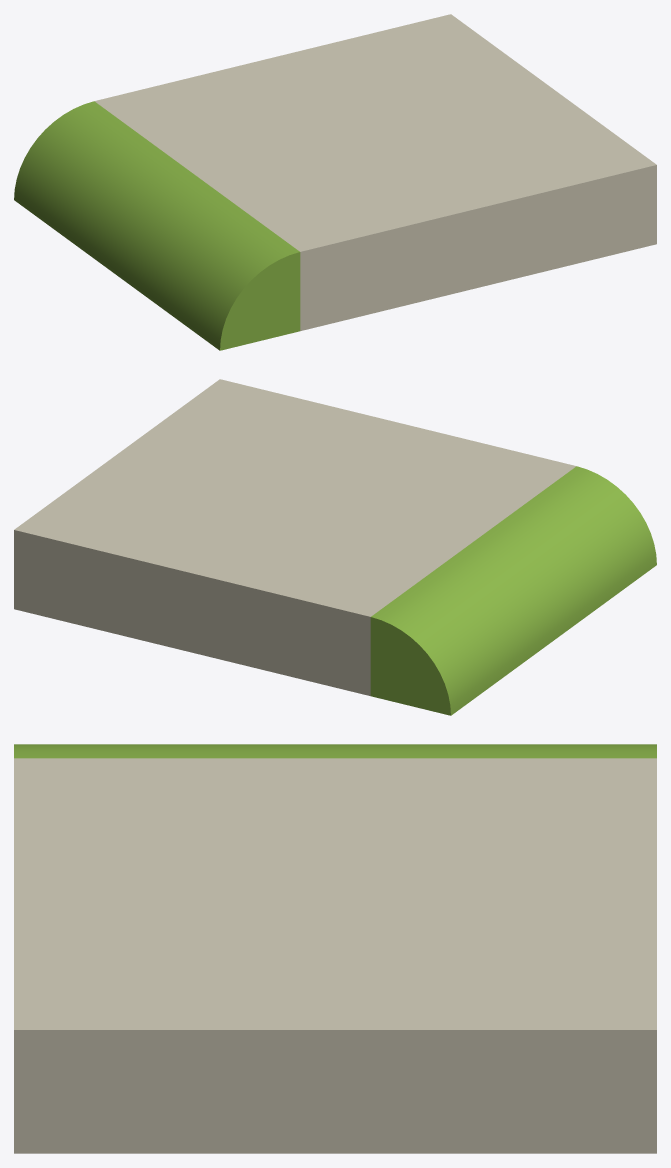
The model's file is modularBuildings_012.obj.
3 renders of one model, top to bottom at view 1: azimuth 30°, elevation 25°; view 2: azimuth 150°, elevation 25°; view 3: azimuth 270°, elevation 25°, orthographic. The views are drawn at different scales.
Visible parts, largest first — view 1: Mesh1 Group1 Model; view 2: Mesh1 Group1 Model; view 3: Mesh1 Group1 Model.
Boxes of the visible parts, x1=… form: Mesh1 Group1 Model: x1=14, y1=14, x2=656, y2=350; Mesh1 Group1 Model: x1=14, y1=379, x2=656, y2=715; Mesh1 Group1 Model: x1=14, y1=744, x2=656, y2=1153.
Size of the model in its own units: 1.22 by 0.2125 by 1.
